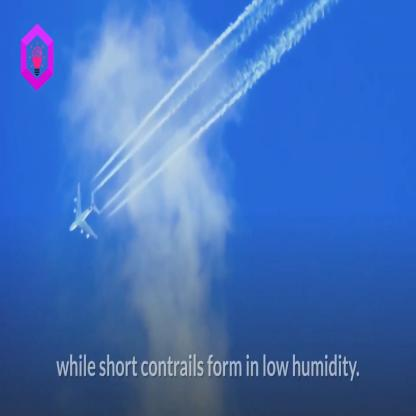plane: (65, 182, 101, 246)
